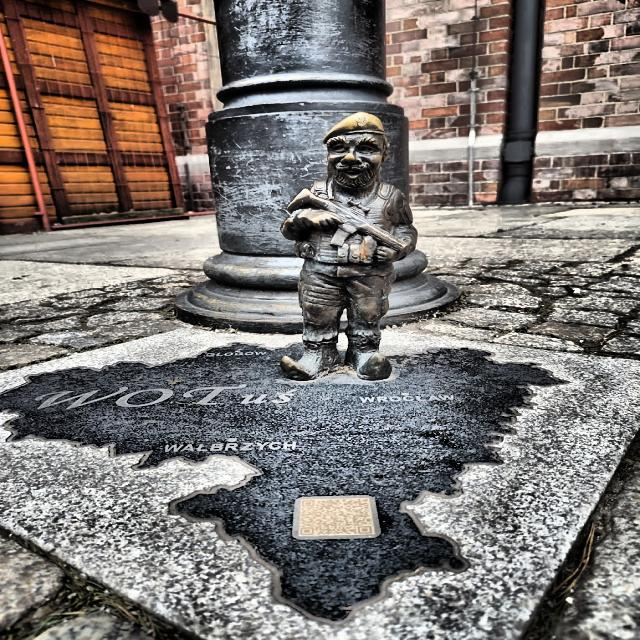WOTus: (280, 112, 417, 380)
